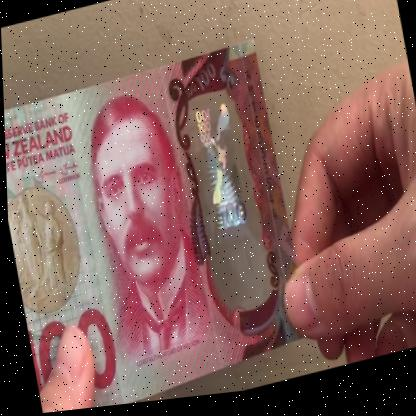100F: (186, 97, 263, 302)
